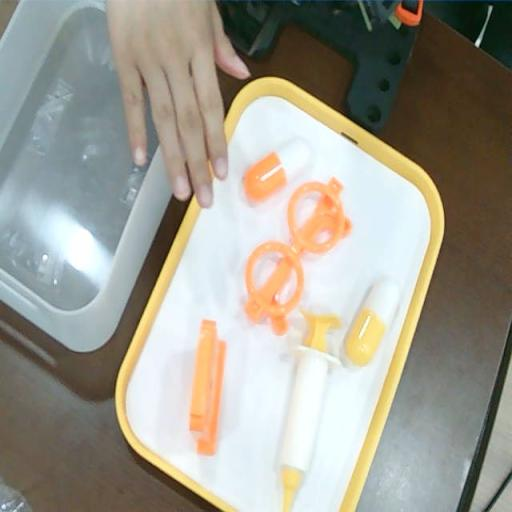hospital: (103, 1, 248, 211)
